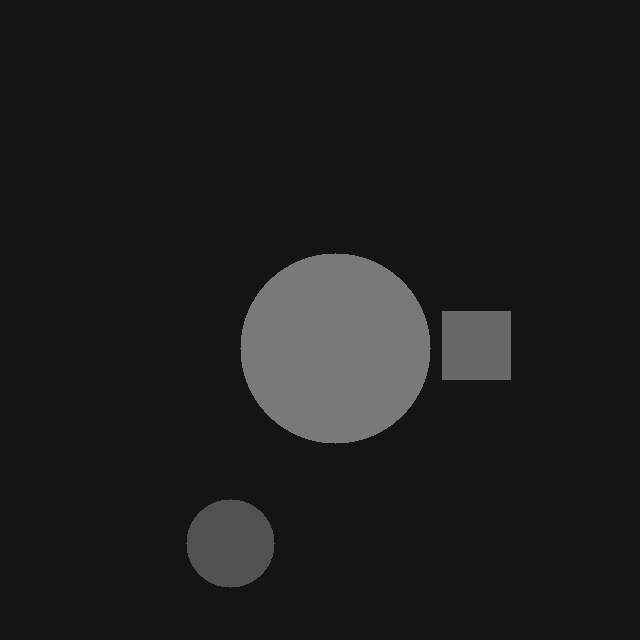circle: (240, 253, 430, 443), (186, 499, 274, 587)
square: (442, 311, 510, 379)
